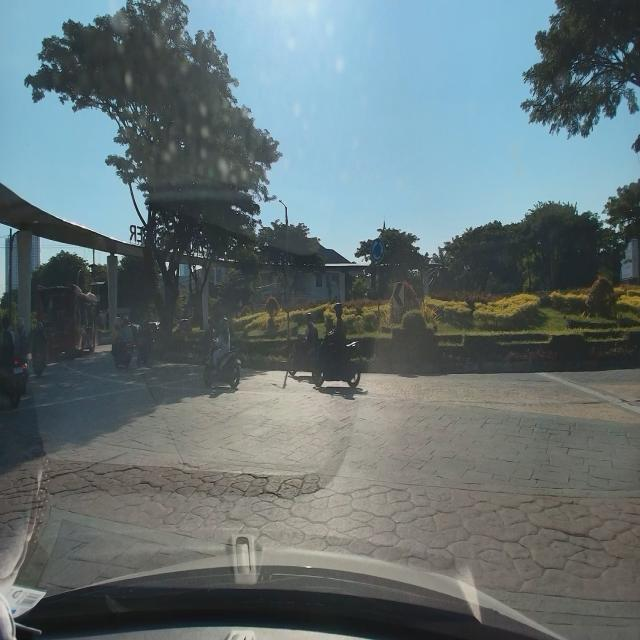bus: (31, 277, 102, 366)
